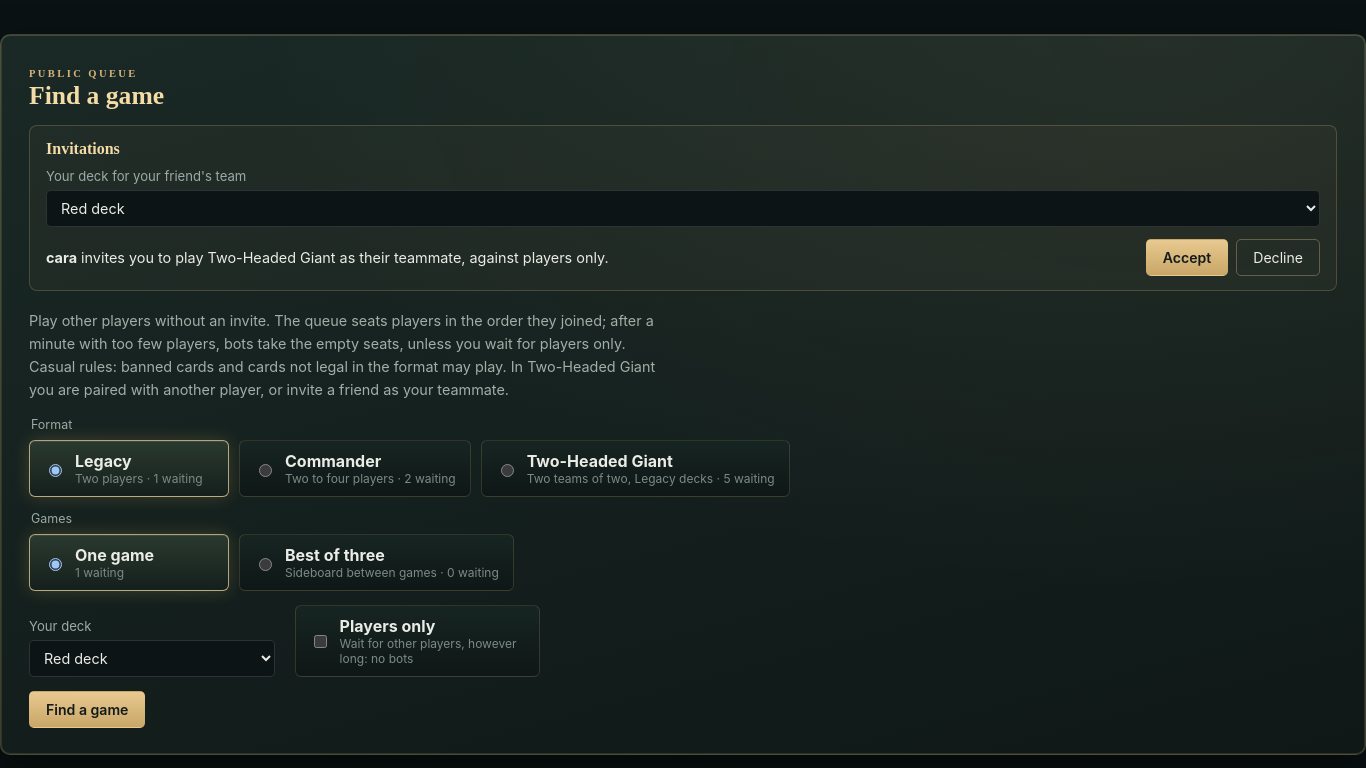
Test: Two-Headed Giant's queue (v0.5.1) › accepts a friend's invitation with a deck, or declines it
Check: the element "Invitations" shows "cara invites you to play Two-Headed Giant as their teammate, against players only.", box 29,125 -> 1337,291
Click the button named "Accept cara's invitation".
click(1187, 258)  # box 1146,239 -> 1228,276
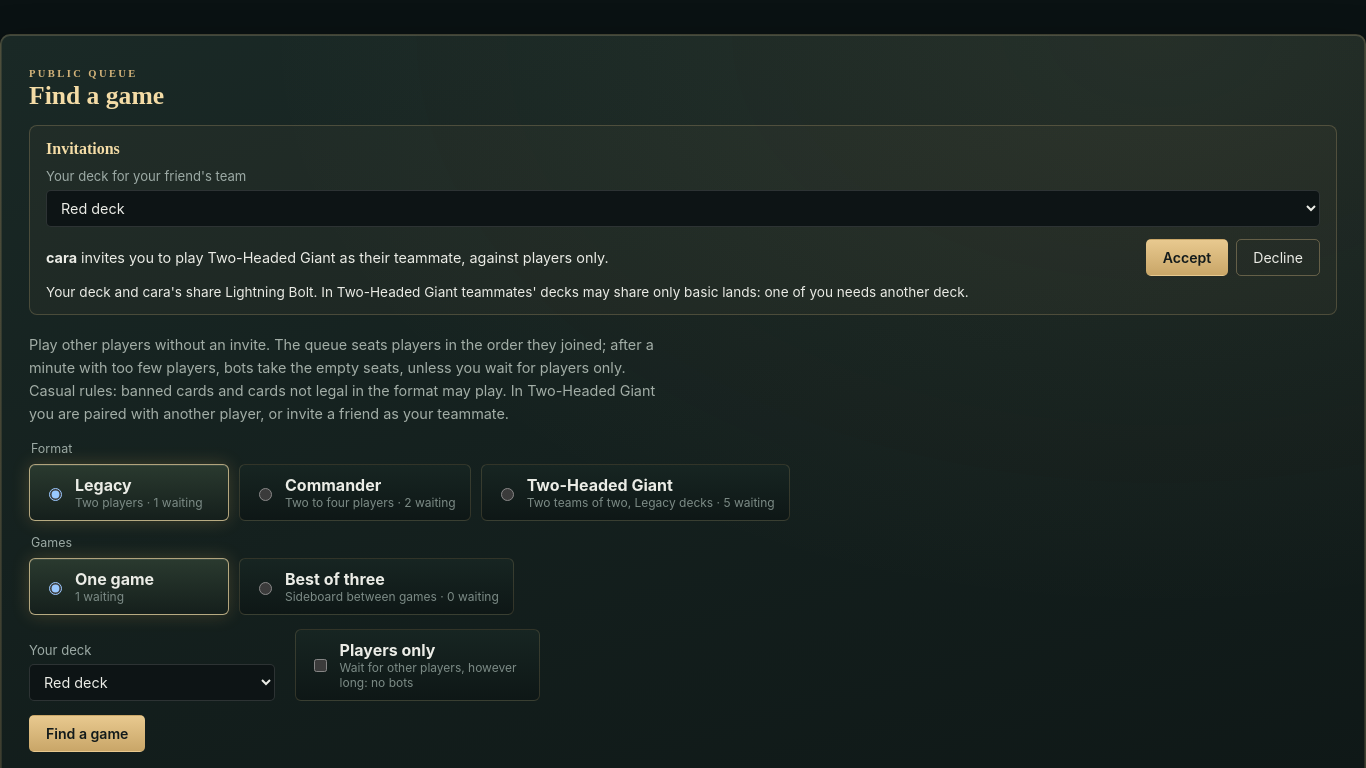
Check: the message shows "Your deck and cara's share Lightning Bolt.", box 46,284 -> 968,300
Select "Blue deck" in the dropdown labelled "Your deck for your friend's team" at (683, 208), box 46,190 -> 1320,227
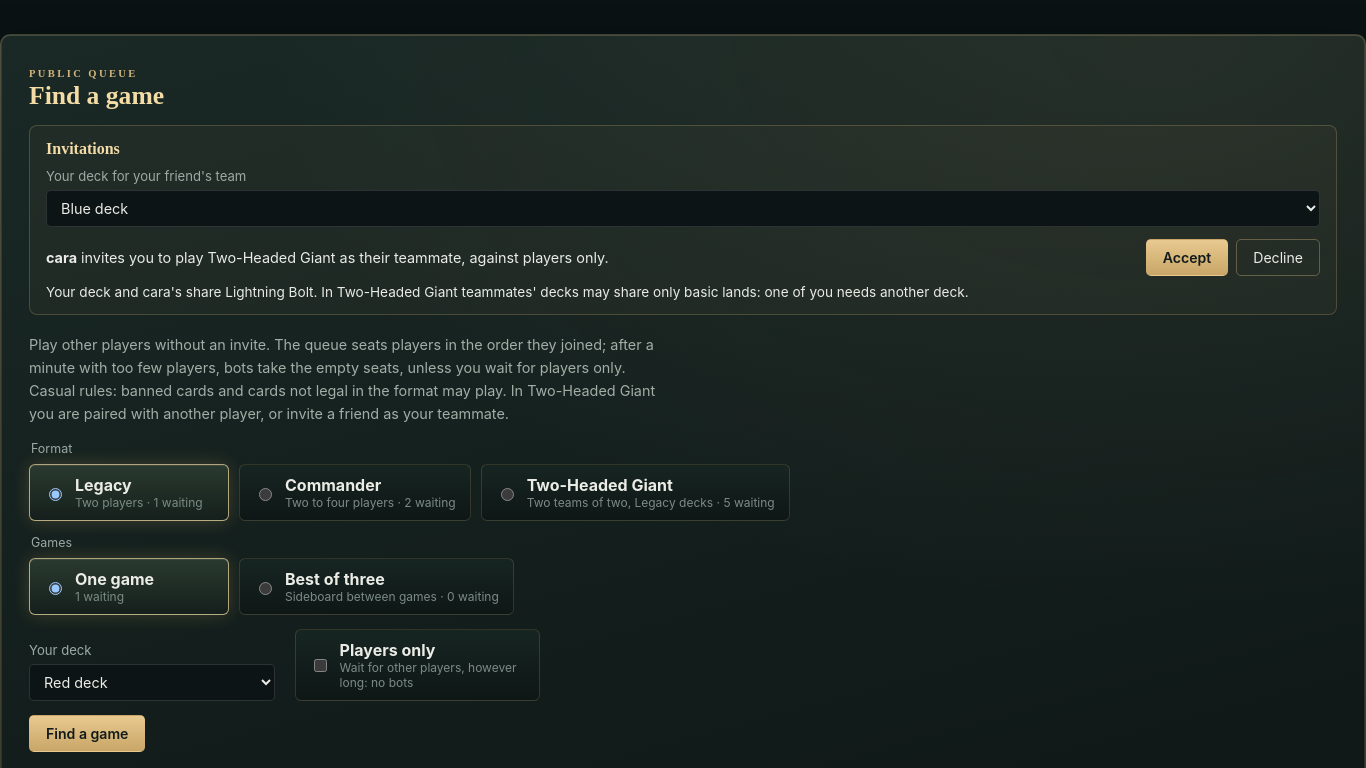
Click the button named "Accept cara's invitation".
click(1187, 258)  # box 1146,239 -> 1228,276
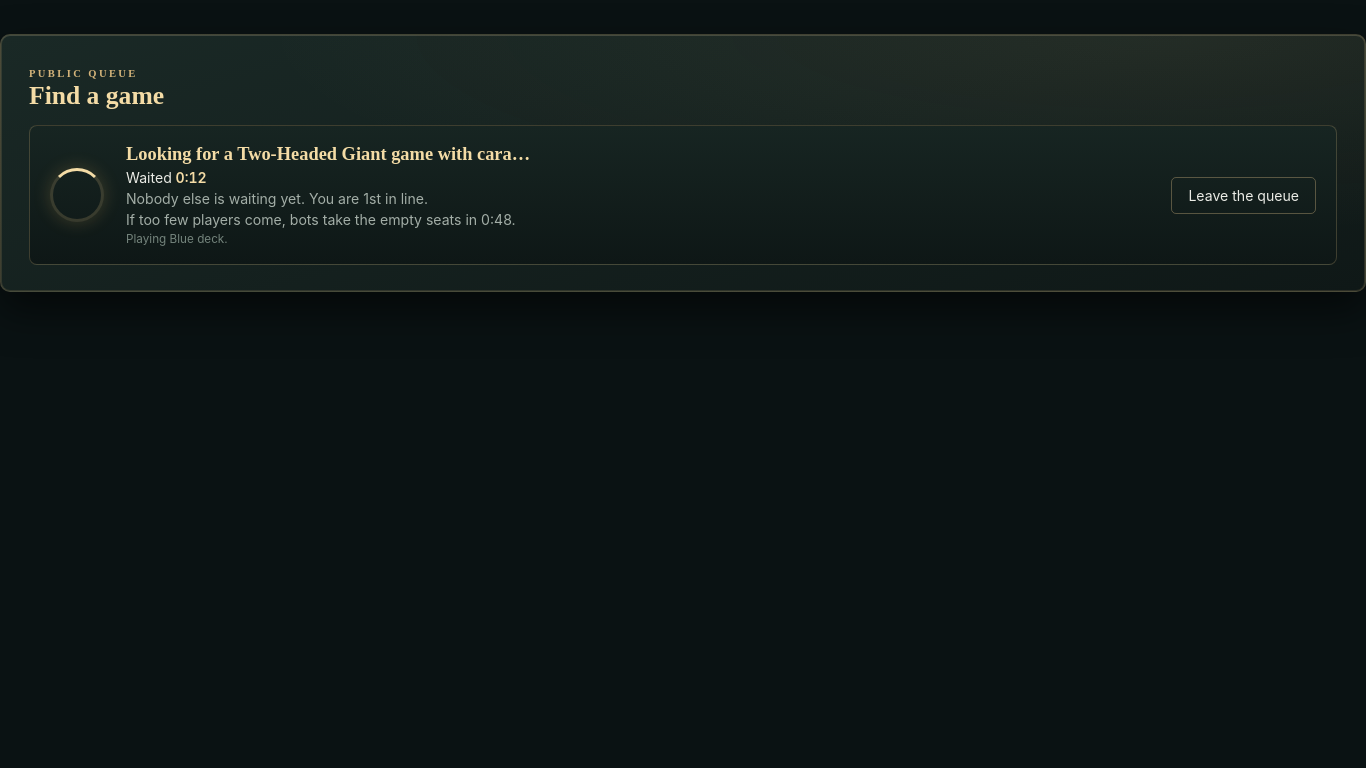
Check: the message shows "Looking for a Two-Headed Giant game with cara…", box 126,144 -> 530,246
